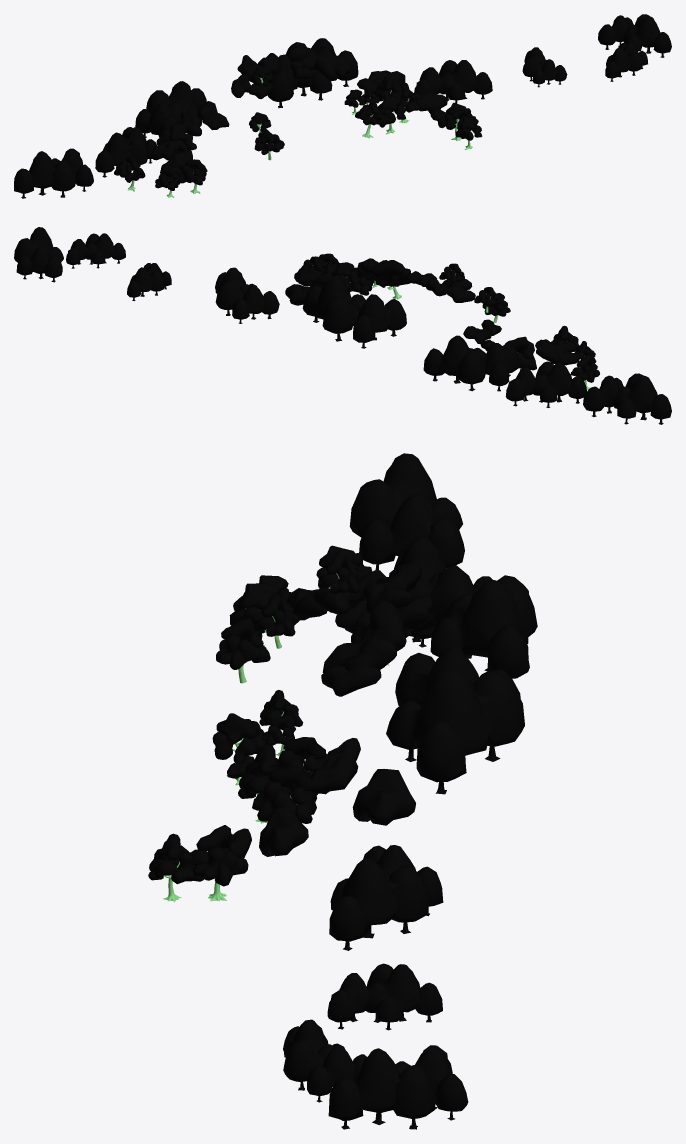
Rendered from SM_ENV_KNVLLG03_Tree_Distance_C.gltf.
3 renders of one model, top to bottom at view 1: azimuth 30°, elevation 25°; view 2: azimuth 150°, elevation 25°; view 3: azimuth 270°, elevation 25°, orthographic. The views are drawn at different scales.
Visible parts, largest first — view 1: SM_ENV_KNVLLG03_Tree_Distance_C; view 2: SM_ENV_KNVLLG03_Tree_Distance_C; view 3: SM_ENV_KNVLLG03_Tree_Distance_C.
Part boxes in pixels (<box>): SM_ENV_KNVLLG03_Tree_Distance_C: <box>14,14,671,198</box>; SM_ENV_KNVLLG03_Tree_Distance_C: <box>14,227,671,424</box>; SM_ENV_KNVLLG03_Tree_Distance_C: <box>148,453,537,1129</box>.
Bounding box in the file's own units: 343 × 47.37 × 90.07.
